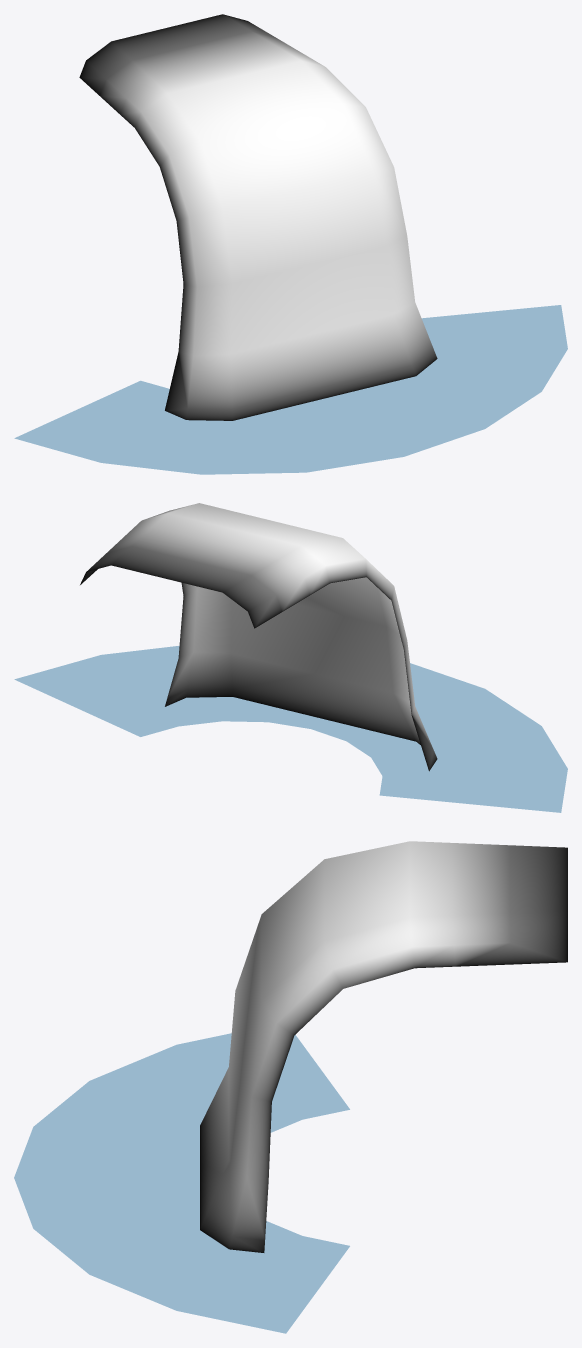
Rendered from SM_Waterfall1.fbx.
3 renders of one model, top to bottom at view 1: azimuth 30°, elevation 25°; view 2: azimuth 150°, elevation 25°; view 3: azimuth 270°, elevation 25°, orthographic. The views are drawn at different scales.
Visible parts, largest first — view 1: SM_Waterfall1; view 2: SM_Waterfall1; view 3: SM_Waterfall1.
Boxes of the visible parts, box(x1,y1,x2,y2) form: SM_Waterfall1: box(14, 14, 567, 474); SM_Waterfall1: box(14, 503, 567, 812); SM_Waterfall1: box(14, 841, 567, 1333).
Bounding box in the file's own units: 856 × 382 × 643.
